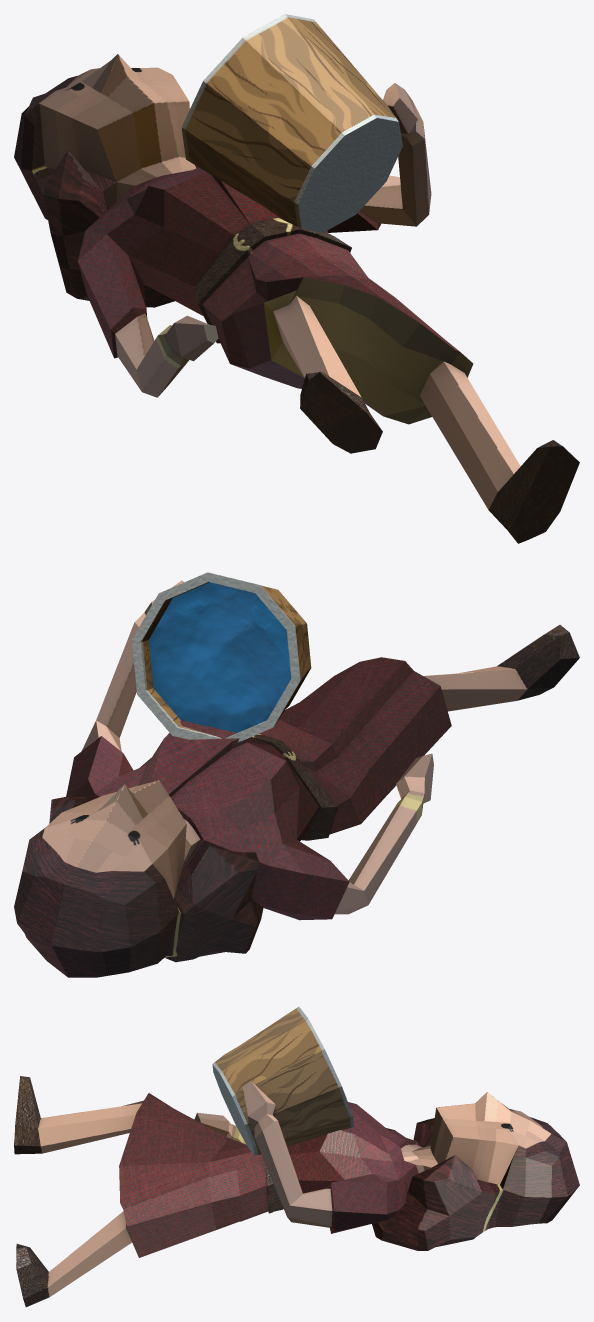
The model's file is Walk_Aldeana_5.obj.
The picture shows the model from 3 angles, top to bottom: view 1: azimuth 30°, elevation 25°; view 2: azimuth 150°, elevation 25°; view 3: azimuth 270°, elevation 25°; orthographic projection. The views are drawn at different scales.
Parts seen in each view (by area): view 1: Aldeana.001; view 2: Aldeana.001; view 3: Aldeana.001.
Boxes of the visible parts, x1,y1,x2,y2 form: Aldeana.001: (14,14,579,543); Aldeana.001: (14,572,579,977); Aldeana.001: (14,1006,579,1307).
Size of the model in its own units: 1.09 by 1.26 by 2.36.
